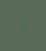zero: (19, 19, 24, 31)
